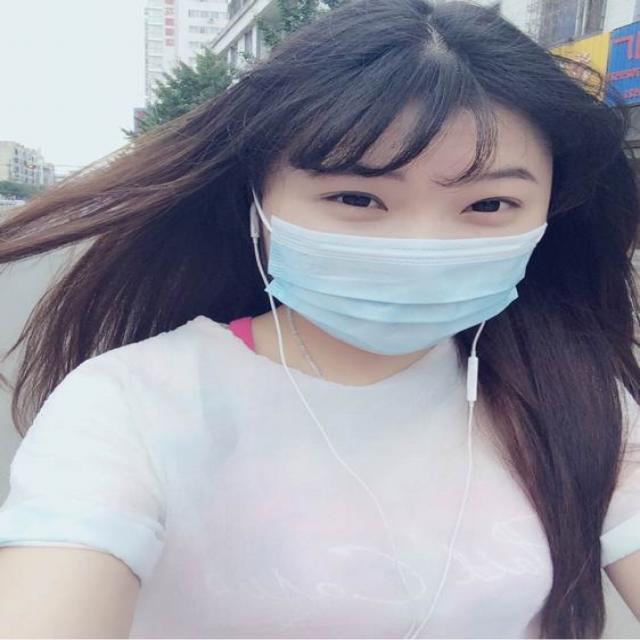mask: (271, 82, 544, 362)
